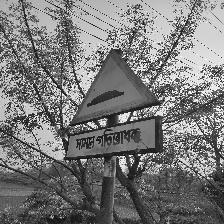Speed-breaker: (65, 48, 163, 161)
